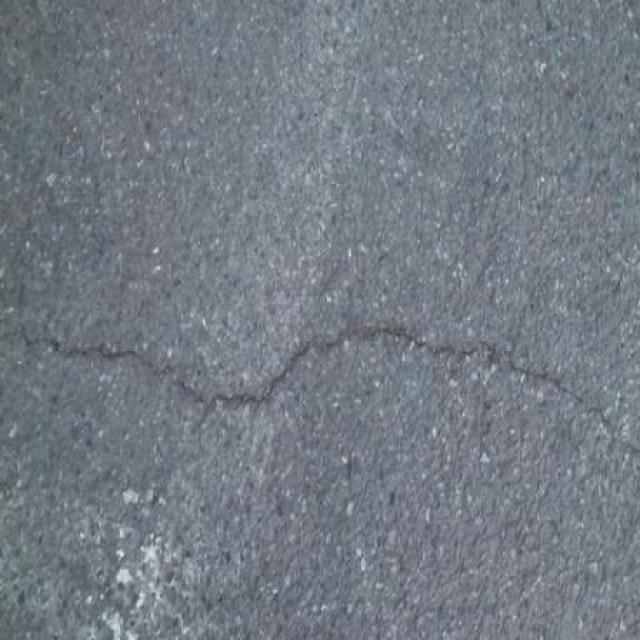diagonal crack: (9, 305, 628, 464)
